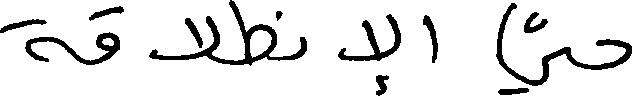ا: (423, 13, 437, 64)
ة: (0, 17, 65, 63)
ح: (596, 36, 631, 70)
ط: (228, 0, 275, 67)
ق: (87, 3, 122, 64)
لا: (339, 12, 400, 94), (150, 14, 219, 63)
ن: (274, 9, 306, 61)
ي: (497, 0, 566, 94)
